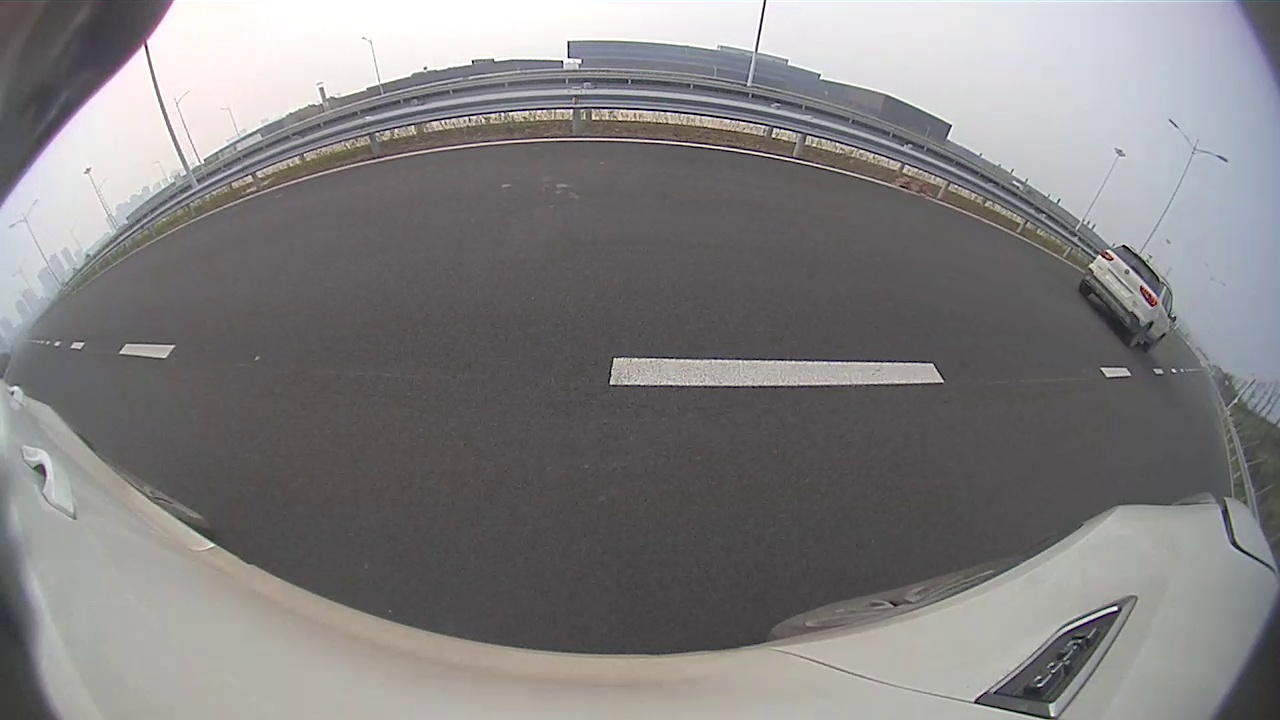car: (705, 149, 774, 194)
rear: (719, 174, 728, 193)
